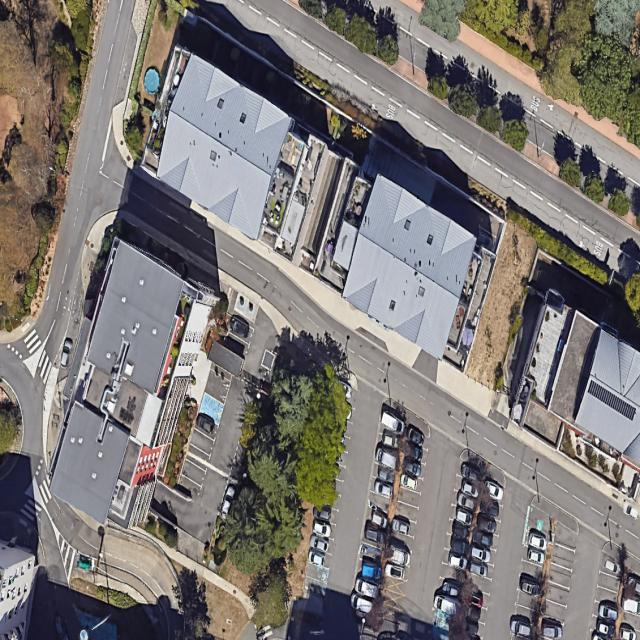immeuble: (32, 241, 225, 533), (322, 175, 495, 359), (140, 52, 303, 240), (511, 290, 639, 473)
